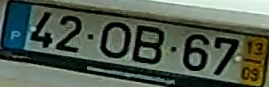2: (53, 13, 83, 54)
4: (28, 9, 54, 49)
6: (180, 31, 211, 73)
7: (211, 34, 240, 77)
B: (129, 23, 166, 66)
O: (97, 20, 133, 60)
